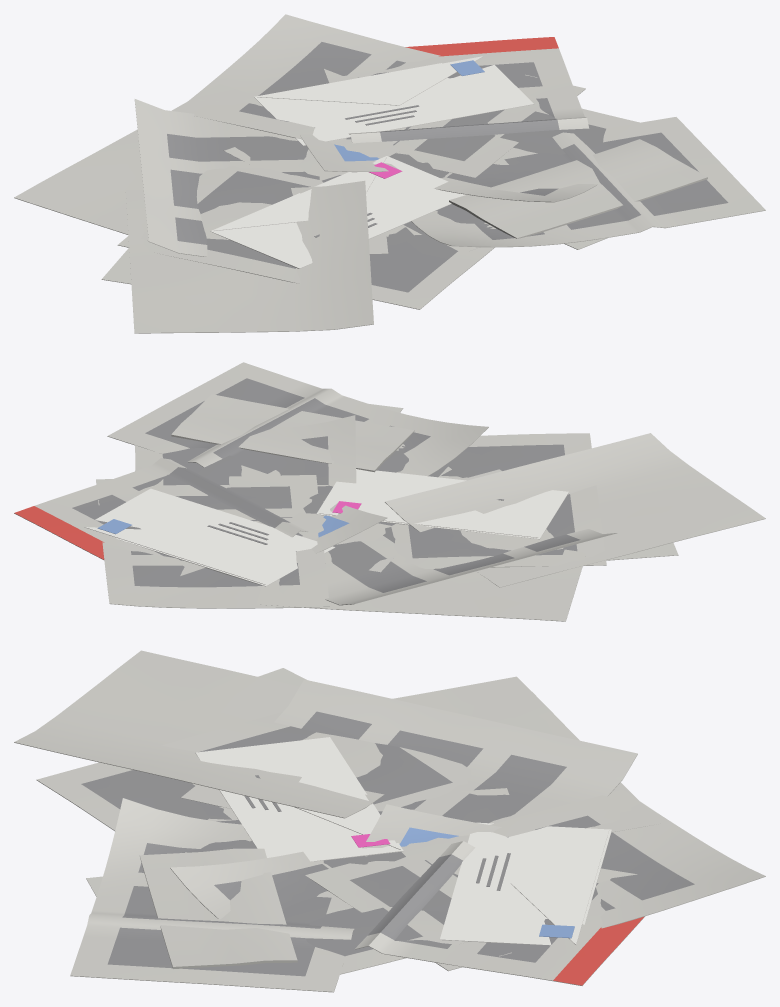
The model's file is paper_papers_scattered_a.fbx.
3 views of the same model, one above another, from view 1: azimuth 30°, elevation 25°; view 2: azimuth 150°, elevation 25°; view 3: azimuth 270°, elevation 25° (orthographic). The views are drawn at different scales.
Visible parts, largest first — view 1: paper_papers_scattered_a; view 2: paper_papers_scattered_a; view 3: paper_papers_scattered_a.
Boxes of the visible parts, box(x1,y1,x2,y2) form: paper_papers_scattered_a: box(14, 14, 765, 333); paper_papers_scattered_a: box(14, 362, 765, 621); paper_papers_scattered_a: box(14, 650, 765, 992).
Size of the model in its own units: 0.6361 by 0.0185 by 0.5928.
